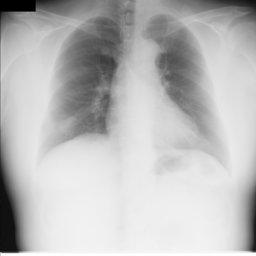leftlobe: (146, 16, 220, 148)
right lobe: (49, 18, 123, 146)
